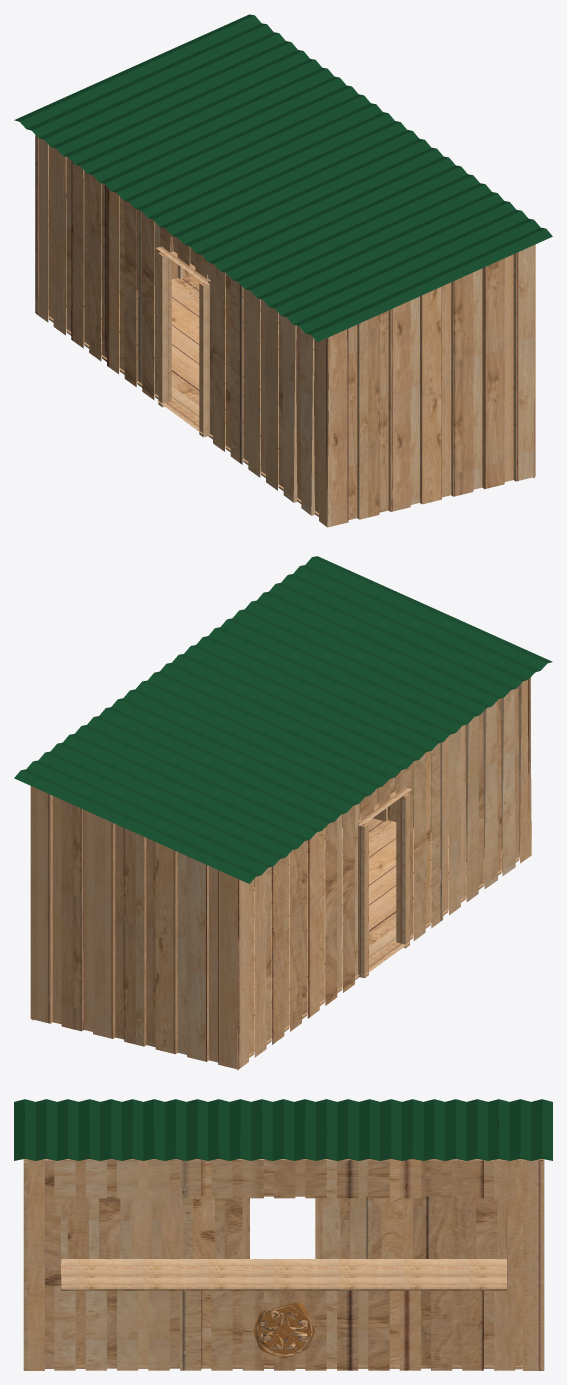
File: store.glb
The picture shows the model from 3 angles, top to bottom: view 1: azimuth 30°, elevation 25°; view 2: azimuth 150°, elevation 25°; view 3: azimuth 270°, elevation 25°; orthographic projection. The views are drawn at different scales.
Visible parts, largest first — view 1: Хорчуоппа; view 2: Хорчуоппа; view 3: Хорчуоппа.
Part boxes in pixels (<box>): Хорчуоппа: <box>14,14,552,527</box>; Хорчуоппа: <box>14,556,552,1070</box>; Хорчуоппа: <box>14,1099,552,1370</box>.
Size of the model in its own units: 2.75 by 2.74 by 6.12.
Materials: 4 (3 with a texture image).
